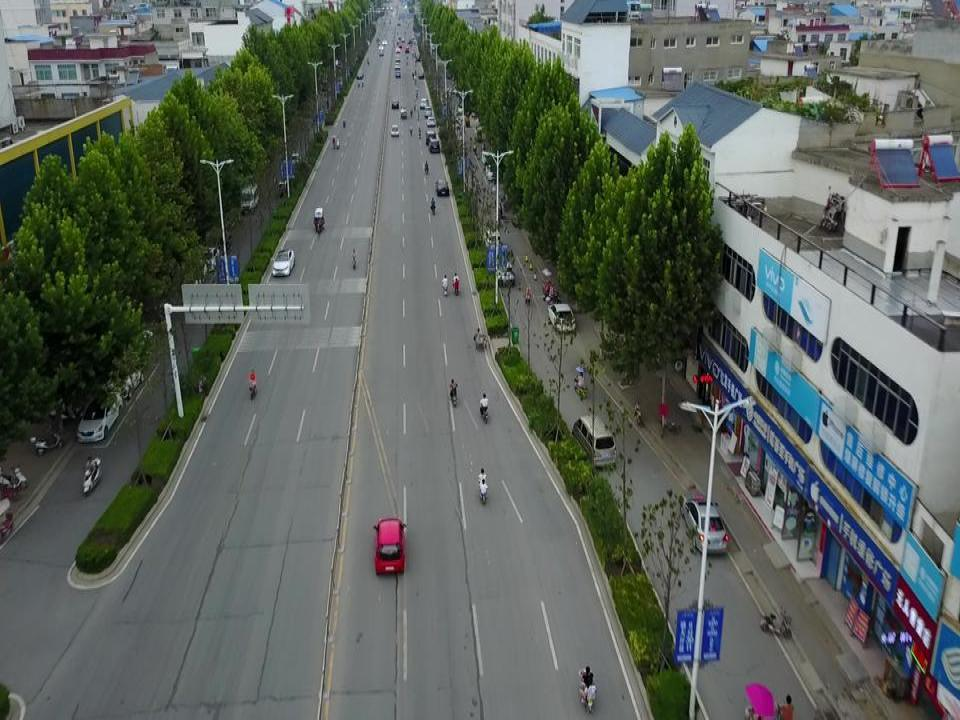car: (678, 492, 728, 557), (76, 391, 123, 441), (372, 516, 406, 575), (101, 364, 144, 400), (547, 303, 576, 332), (181, 258, 207, 286), (272, 249, 295, 276), (200, 247, 220, 272), (486, 164, 500, 181), (435, 179, 449, 196), (428, 139, 440, 153), (290, 152, 301, 167), (425, 131, 436, 145), (390, 124, 399, 137), (426, 116, 436, 127), (419, 99, 429, 109), (391, 99, 399, 109), (424, 107, 432, 117)
van: (572, 415, 617, 468), (239, 183, 259, 214)
